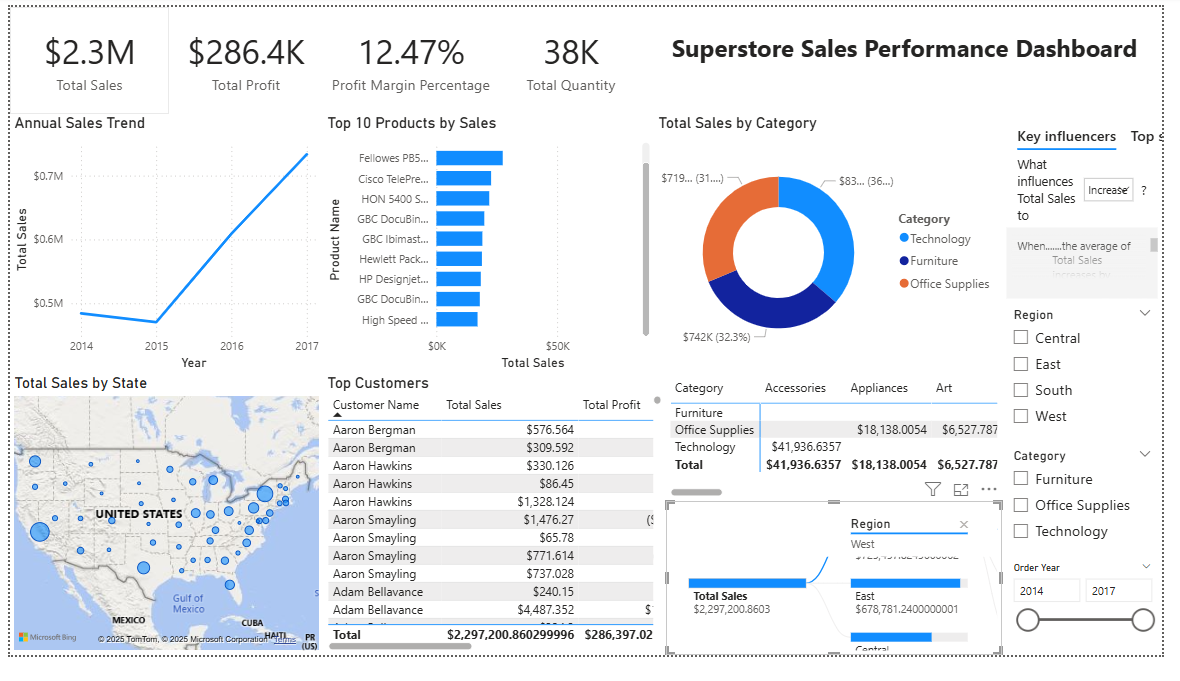

What the dashboard file says about the page in this screenshot:
{"tool":"powerbi","page":{"name":"Page 1","canvas":[1280,720],"ordinal":0},"visuals":[{"type":"card","fields":{"Values":["public superstore_sales.Total Sales"]},"box":[0,0,176.7,118.9],"z":0},{"type":"card","fields":{"Values":["public superstore_sales.Total Profit"]},"box":[176.7,0,171.1,118.9],"z":1000},{"type":"card","fields":{"Values":["public superstore_sales.Profit Margin Percentage"]},"box":[347.8,0,195.6,118.9],"z":2000},{"type":"card","fields":{"Values":["public superstore_sales.Total Quantity"]},"box":[543.3,0,160,118.9],"z":3000},{"type":"lineChart","title":"Annual Sales Trend","fields":{"Category":["public superstore_sales.Order Date.Variation.Date Hierarchy.Year","public superstore_sales.Order Date.Variation.Date Hierarchy.Month"],"Y":["public superstore_sales.Total Sales"]},"box":[0,118.9,347.8,288.9],"z":4000},{"type":"clusteredBarChart","title":"Top 10 Products by Sales","fields":{"Category":["public superstore_sales.Product Name"],"Y":["public superstore_sales.Total Sales"]},"box":[347.8,118.9,367.8,288.9],"z":5000},{"type":"donutChart","fields":{"Category":["public superstore_sales.Category"],"Y":["public superstore_sales.Total Sales"]},"box":[715.6,118.9,386.7,288.9],"z":6000},{"type":"map","fields":{"Category":["public superstore_sales.State"],"Size":["public superstore_sales.Total Sales"]},"box":[0,407.8,347.8,312.2],"z":7000},{"type":"tableEx","title":"Top Customers","fields":{"Values":["public superstore_sales.Customer Name","public superstore_sales.Total Sales","public superstore_sales.Total Profit","public superstore_sales.Profit Margin Percentage","public superstore_sales.Total Quantity","public superstore_sales.Segment","public superstore_sales.Region"]},"box":[347.8,407.8,381.1,312.2],"z":8000},{"type":"slicer","fields":{"Values":["public superstore_sales.Region"]},"box":[1102.2,328.9,177.8,156.7],"z":9000},{"type":"slicer","fields":{"Values":["public superstore_sales.Category"]},"box":[1102.2,485.6,177.8,125.6],"z":10000},{"type":"slicer","fields":{"Values":["public superstore_sales.Order Year"]},"box":[1102.2,611.1,177.8,108.9],"z":11000},{"type":"textbox","box":[715.6,21.1,556.7,76.7],"z":12000},{"type":"pivotTable","fields":{"Rows":["public superstore_sales.Category"],"Columns":["public superstore_sales.Sub-Category"],"Values":["public superstore_sales.Total Profit"]},"box":[728.9,407.8,373.3,141.1],"z":13000},{"type":"decompositionTreeVisual","fields":{"Analyze":["public superstore_sales.Total Sales"],"ExplainBy":["public superstore_sales.Region","public superstore_sales.Category","public superstore_sales.Product Name","public superstore_sales.Sub-Category"]},"box":[728.9,548.9,373.3,171.1],"z":14000},{"type":"keyDriversVisual","fields":{"Target":["public superstore_sales.Total Sales"],"ExplainBy":["public superstore_sales.Region","public superstore_sales.Category","public superstore_sales.Sub-Category","public superstore_sales.Discount","public superstore_sales.Quantity","public superstore_sales.Ship Mode","public superstore_sales.Segment"]},"box":[1102.2,118.9,177.8,210],"z":14001}]}

Visuals, with their boxes in screenshot pixels (x1, y1, x2, y2), scaled from the page's 1280x720 canvas onto the 1180x681 screenshot:
card - public superstore_sales.Total Sales: BBox(0, 0, 163, 112)
card - public superstore_sales.Total Profit: BBox(163, 0, 321, 112)
card - public superstore_sales.Profit Margin Percentage: BBox(321, 0, 501, 112)
card - public superstore_sales.Total Quantity: BBox(501, 0, 648, 112)
"Annual Sales Trend" lineChart: BBox(0, 112, 321, 386)
"Top 10 Products by Sales" clusteredBarChart: BBox(321, 112, 660, 386)
donutChart - public superstore_sales.Category x public superstore_sales.Total Sales: BBox(660, 112, 1016, 386)
map - public superstore_sales.State x public superstore_sales.Total Sales: BBox(0, 386, 321, 680)
"Top Customers" tableEx: BBox(321, 386, 672, 680)
slicer - public superstore_sales.Region: BBox(1016, 311, 1179, 459)
slicer - public superstore_sales.Category: BBox(1016, 459, 1179, 578)
slicer - public superstore_sales.Order Year: BBox(1016, 578, 1179, 680)
textbox: BBox(660, 20, 1173, 93)
pivotTable - public superstore_sales.Category x public superstore_sales.Sub-Category: BBox(672, 386, 1016, 519)
decompositionTreeVisual - public superstore_sales.Total Sales x public superstore_sales.Region: BBox(672, 519, 1016, 680)
keyDriversVisual - public superstore_sales.Total Sales x public superstore_sales.Region: BBox(1016, 112, 1179, 311)
